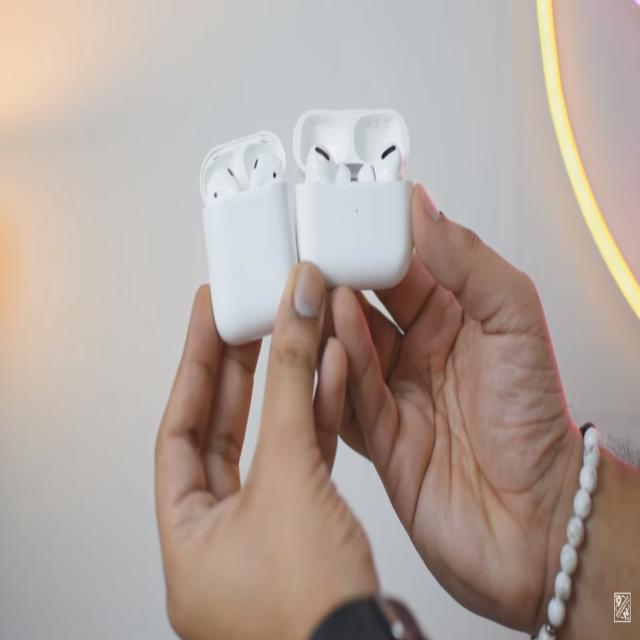Earphone: (292, 104, 413, 292), (198, 128, 300, 348)
